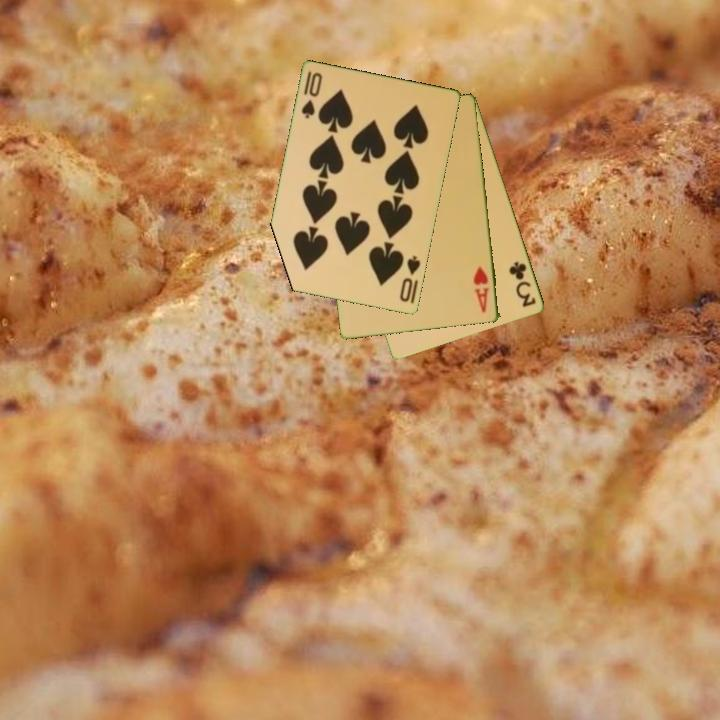10s: (298, 68, 325, 122), (396, 253, 424, 305)
3c: (506, 258, 539, 310)
Ah: (470, 263, 492, 316)
